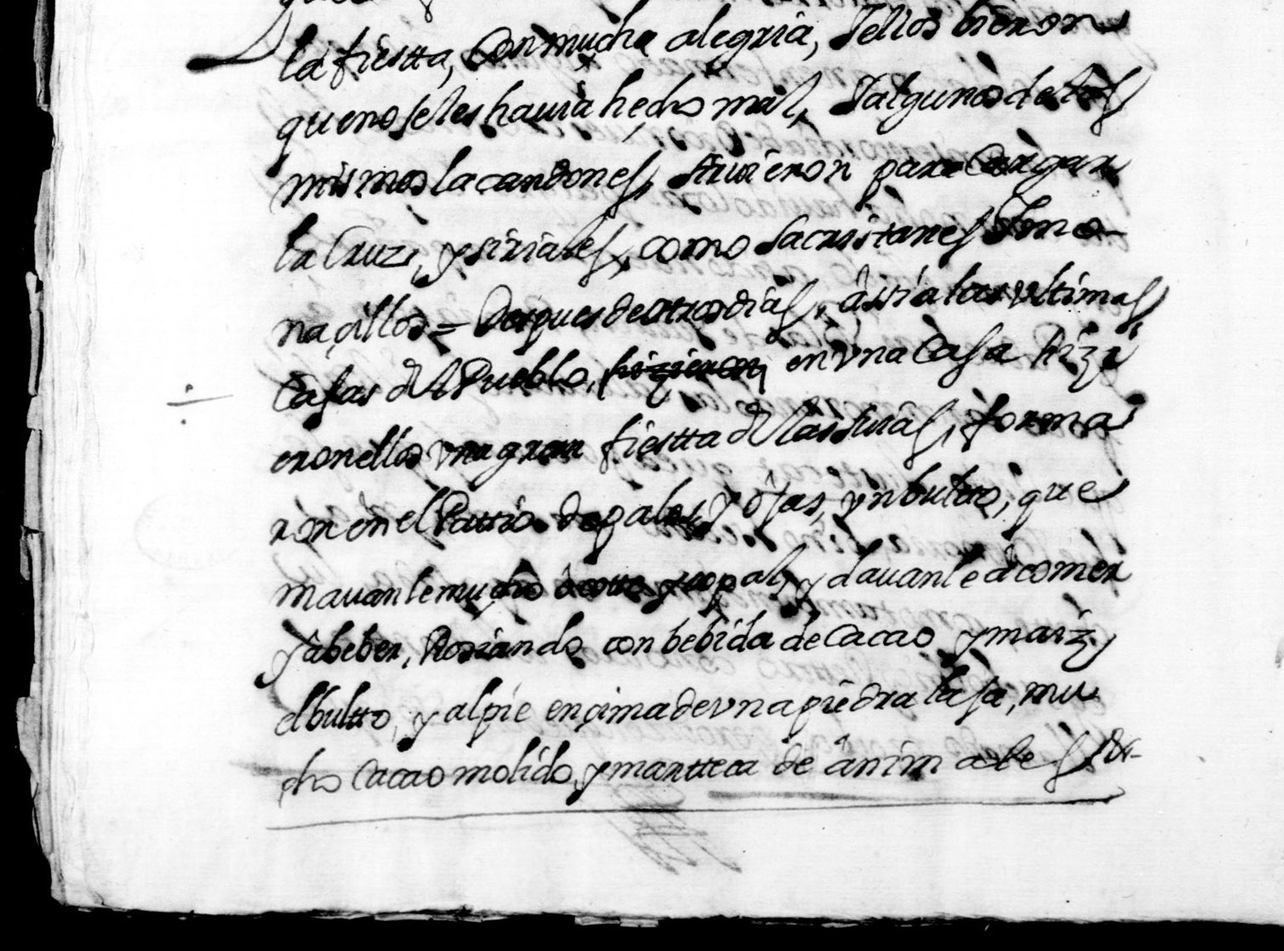lacandon: (430, 145, 662, 219)
